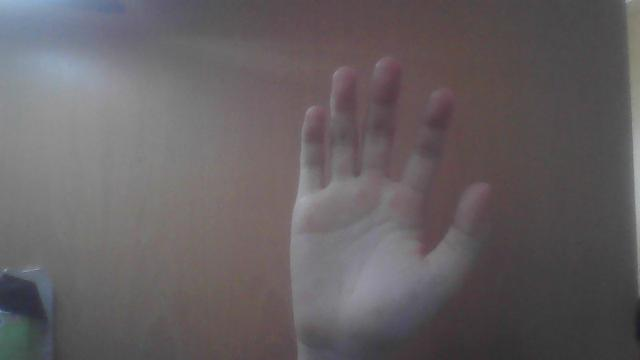Stop: (296, 60, 486, 360)
